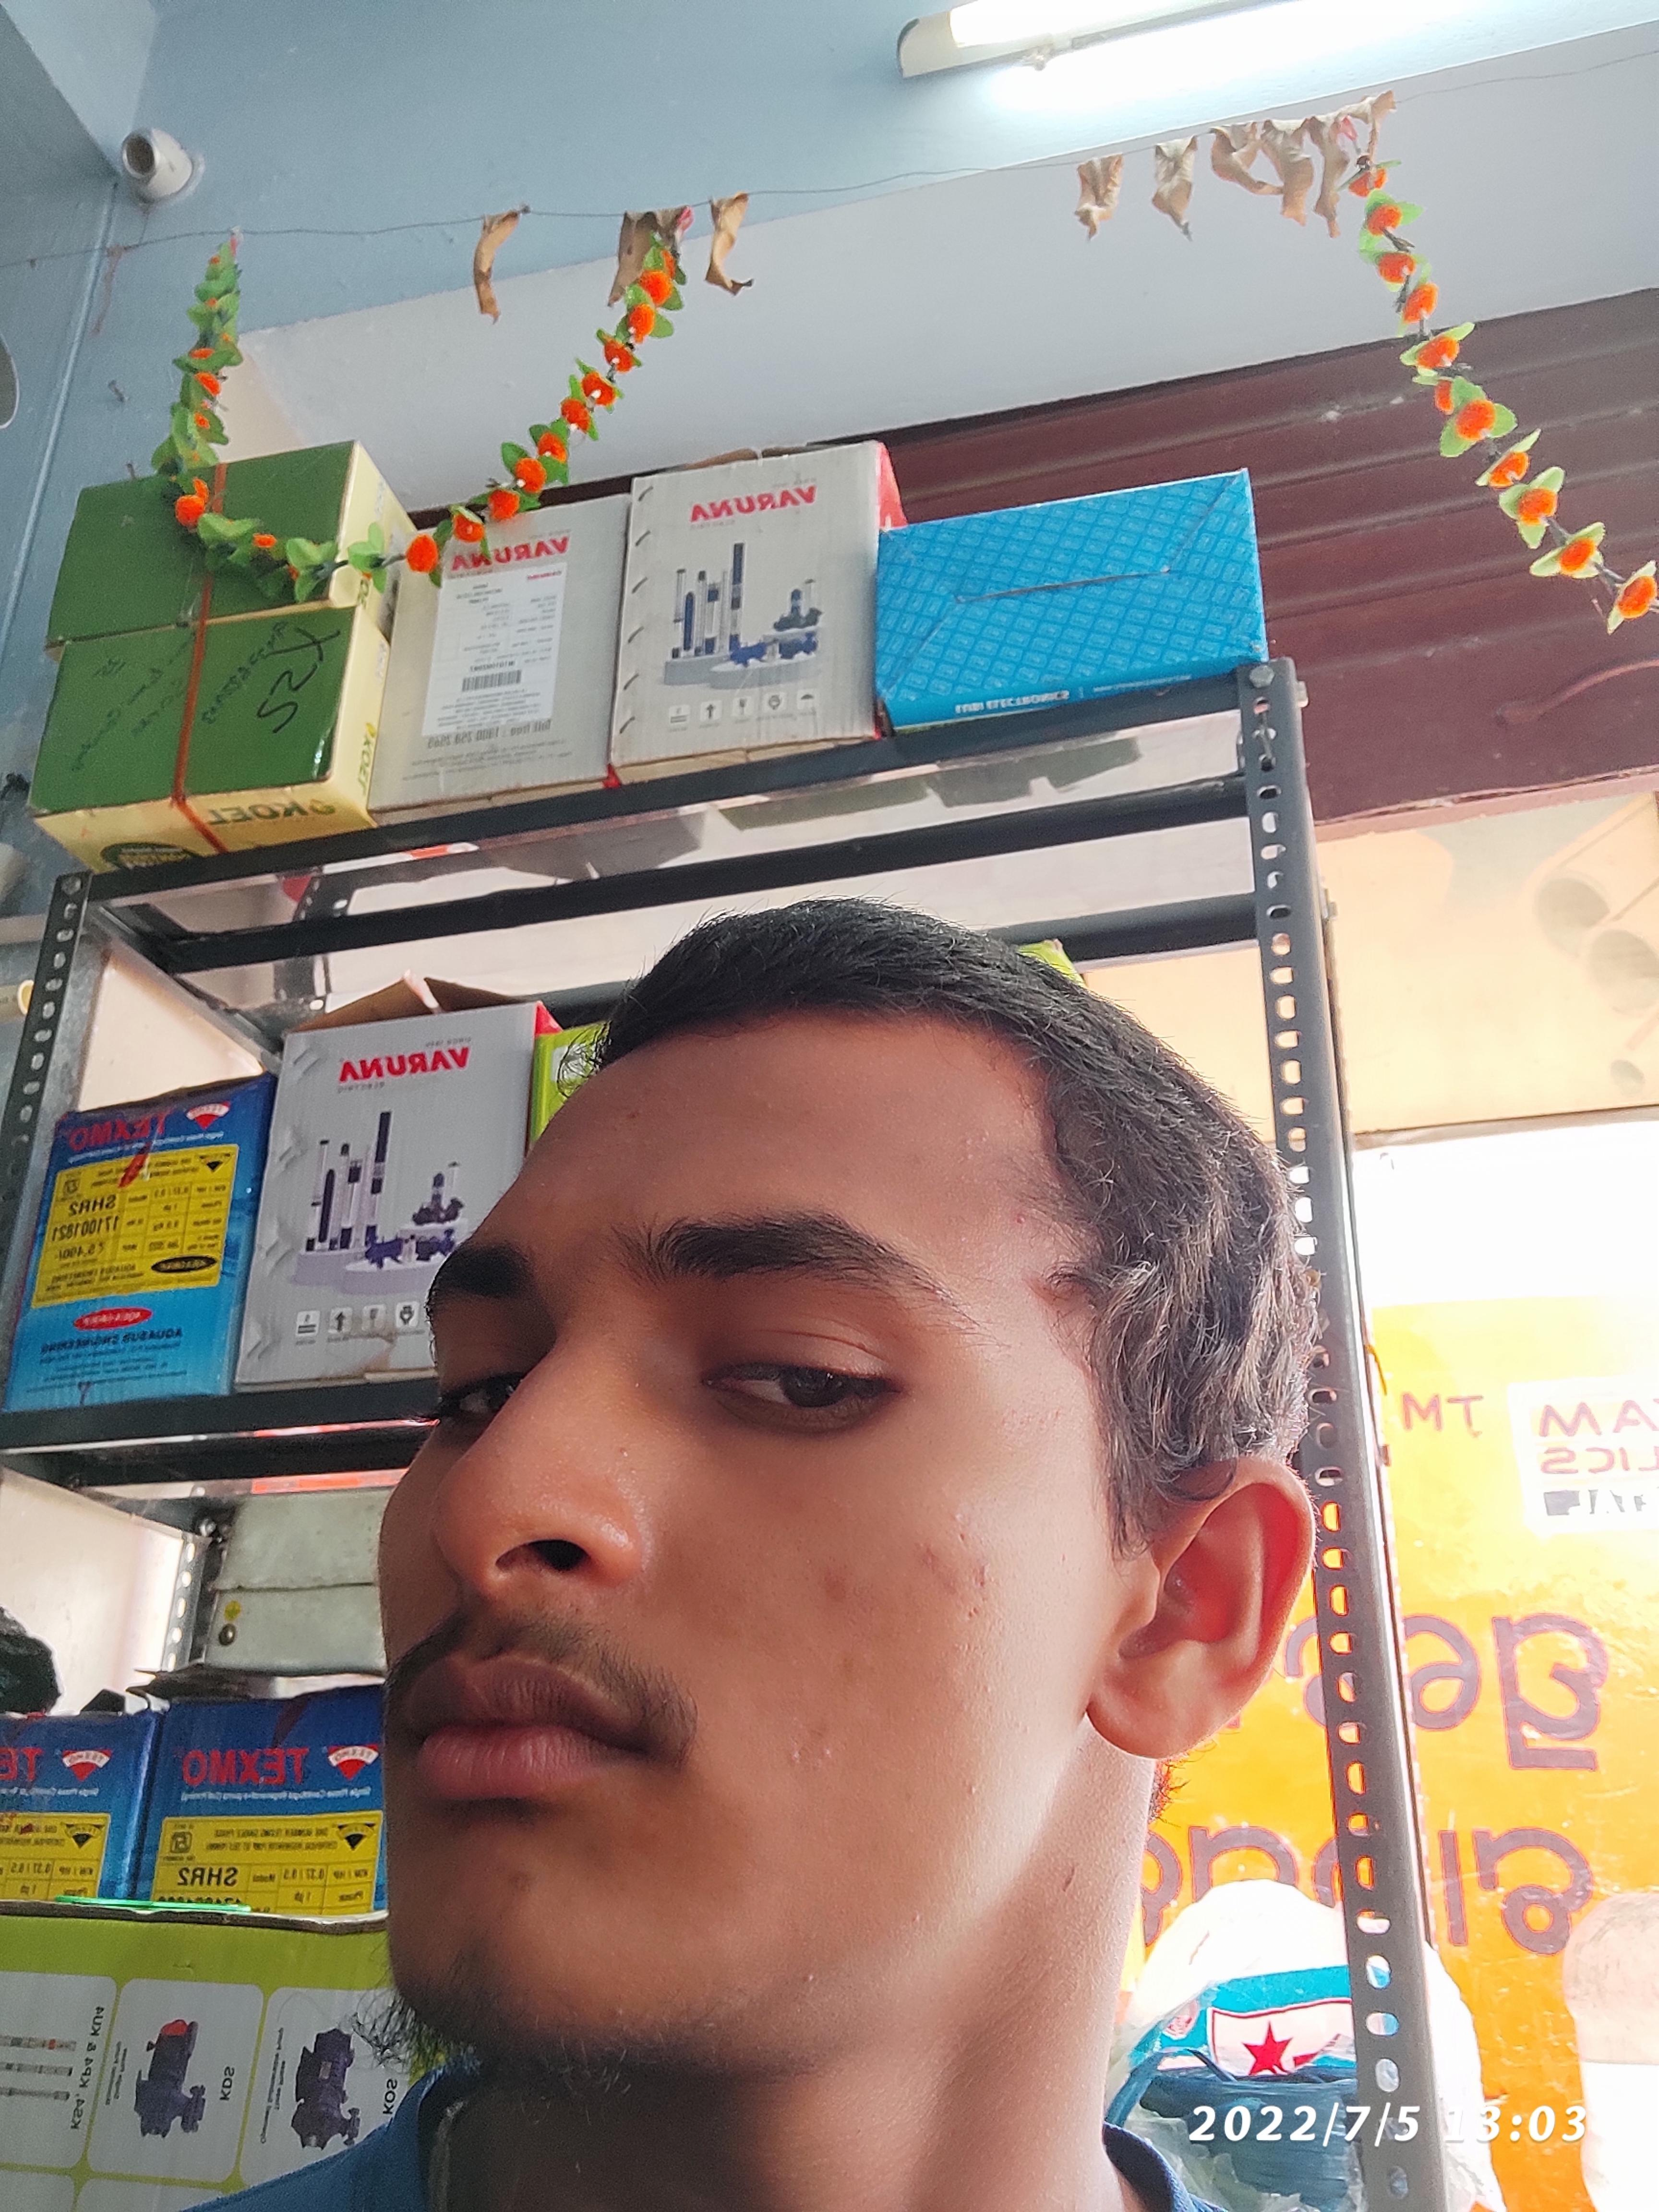Acne: (784, 1716, 836, 1773), (917, 1540, 948, 1590), (502, 1862, 542, 1900), (821, 1561, 850, 1606), (962, 1127, 993, 1165), (1056, 1858, 1082, 1897), (835, 1649, 857, 1681), (1009, 1204, 1035, 1230), (619, 1101, 645, 1127), (904, 1904, 927, 1930), (978, 1674, 997, 1703), (605, 2001, 629, 2024), (796, 1965, 821, 1986), (615, 1437, 633, 1463), (960, 1787, 986, 1801)
Englarged-Pores: (957, 1524, 993, 1630)
